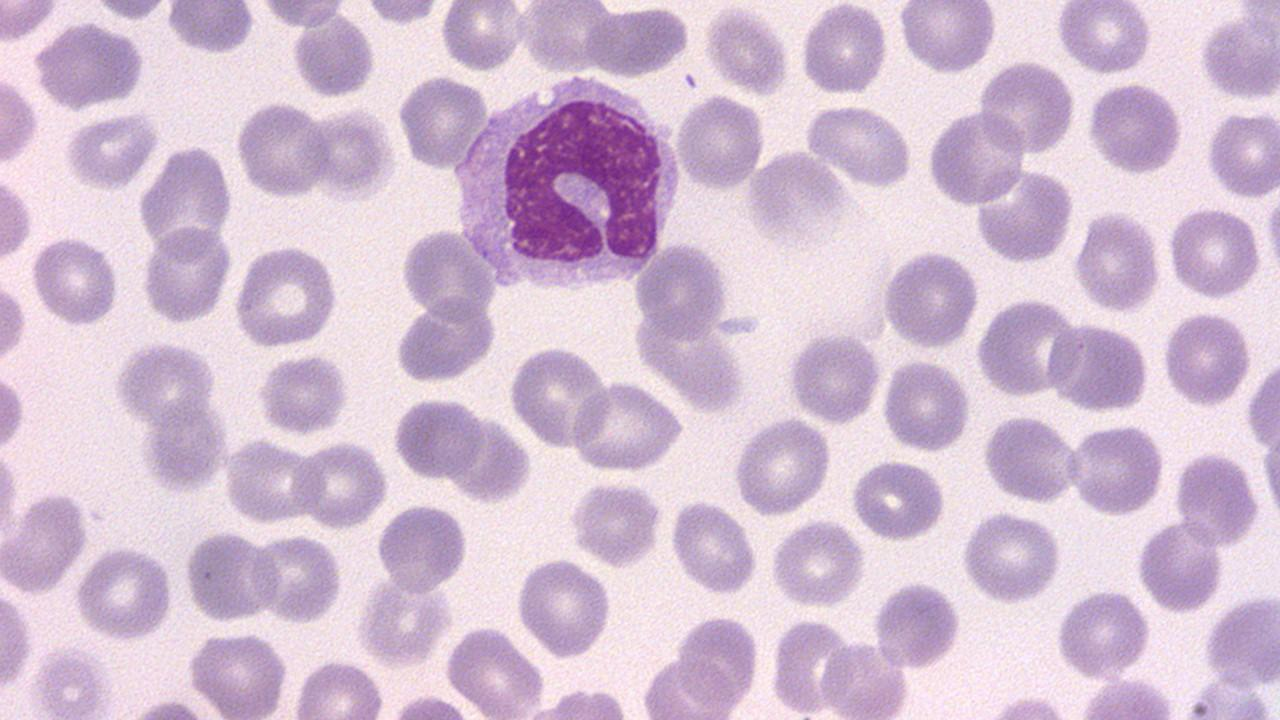Platelets: (566, 478, 667, 568)
RBC: (136, 145, 234, 262), (231, 244, 339, 350), (974, 295, 1084, 399), (506, 343, 612, 450), (569, 379, 686, 474), (512, 554, 614, 661), (31, 19, 147, 113), (972, 164, 1078, 266), (926, 106, 1030, 208), (730, 416, 832, 518), (880, 247, 980, 351), (74, 544, 176, 644), (958, 510, 1065, 605), (399, 226, 500, 326), (1046, 318, 1150, 415), (233, 100, 333, 199), (632, 239, 730, 340), (140, 224, 234, 328), (1072, 207, 1162, 315), (976, 60, 1075, 158), (443, 624, 546, 718), (390, 296, 500, 384), (1068, 422, 1168, 518), (1085, 80, 1185, 176), (802, 104, 916, 188), (671, 91, 766, 191), (182, 526, 278, 624), (1166, 204, 1262, 302), (1053, 588, 1153, 682), (184, 628, 290, 716), (0, 489, 87, 596), (978, 415, 1080, 506), (786, 330, 882, 426), (1161, 308, 1251, 410), (396, 73, 490, 170), (222, 434, 322, 525), (1171, 449, 1261, 550), (138, 397, 228, 498), (564, 479, 666, 568), (114, 339, 218, 426), (768, 518, 866, 610), (1135, 516, 1225, 616), (374, 499, 468, 594), (880, 358, 973, 454), (310, 105, 398, 206), (669, 497, 758, 595), (252, 529, 343, 624), (798, 1, 888, 97), (29, 234, 120, 328), (298, 438, 390, 530), (702, 2, 790, 98), (769, 616, 852, 716), (848, 459, 948, 542), (390, 394, 484, 482), (872, 578, 960, 670), (254, 353, 351, 436), (61, 110, 161, 190), (1201, 590, 1279, 692), (290, 9, 377, 100), (896, 1, 1000, 75), (1197, 10, 1279, 103), (1054, 0, 1152, 75), (1205, 106, 1279, 201), (640, 653, 740, 718), (439, 0, 524, 72), (288, 657, 386, 717), (164, 0, 255, 57), (0, 583, 35, 698), (0, 72, 39, 164), (1245, 354, 1279, 451), (0, 172, 33, 262), (254, 1, 355, 30), (0, 270, 29, 369), (1, 0, 62, 43), (0, 367, 27, 456), (0, 439, 20, 551), (361, 0, 440, 27), (83, 0, 172, 23)
WBC: (446, 70, 688, 294)
